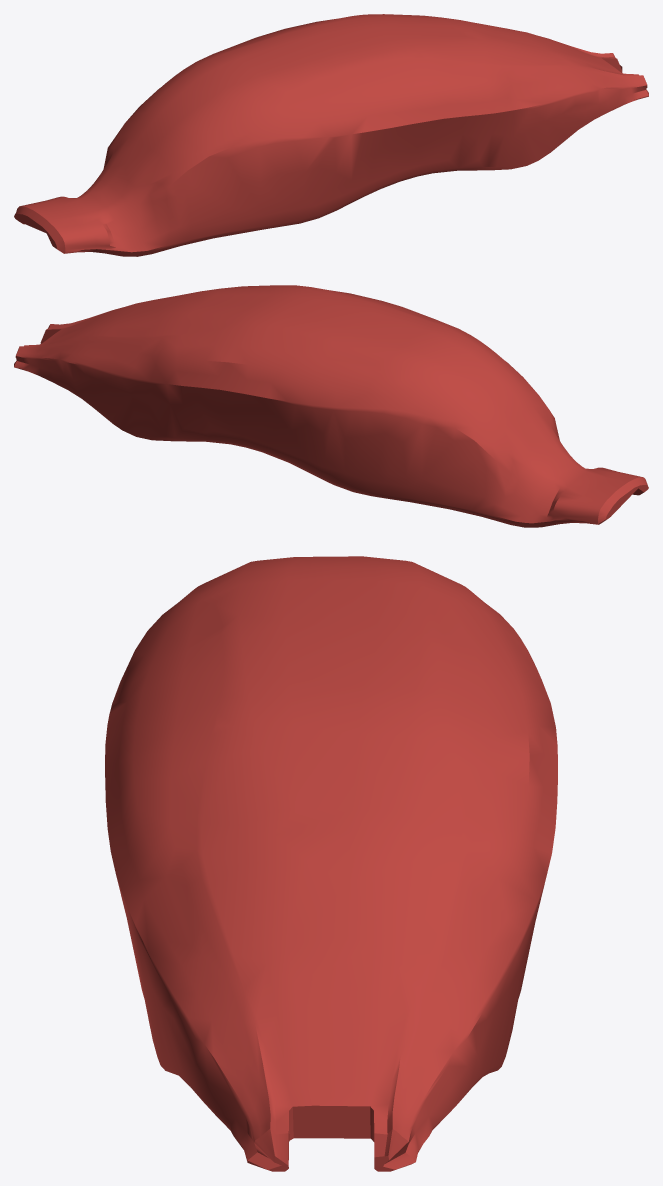
Rendered from sports_tourer_2_lod2.glb.
3 views of the same model, one above another, from view 1: azimuth 30°, elevation 25°; view 2: azimuth 150°, elevation 25°; view 3: azimuth 270°, elevation 25° (orthographic). The views are drawn at different scales.
Parts seen in each view (by area): view 1: sports_tourer_2_lod2; view 2: sports_tourer_2_lod2; view 3: sports_tourer_2_lod2.
Boxes of the visible parts, <box> form: sports_tourer_2_lod2: <box>14,14,648,256</box>; sports_tourer_2_lod2: <box>14,285,648,527</box>; sports_tourer_2_lod2: <box>105,556,557,1171</box>.
Bounding box in the file's own units: 1.29 × 0.2869 × 0.4223.
